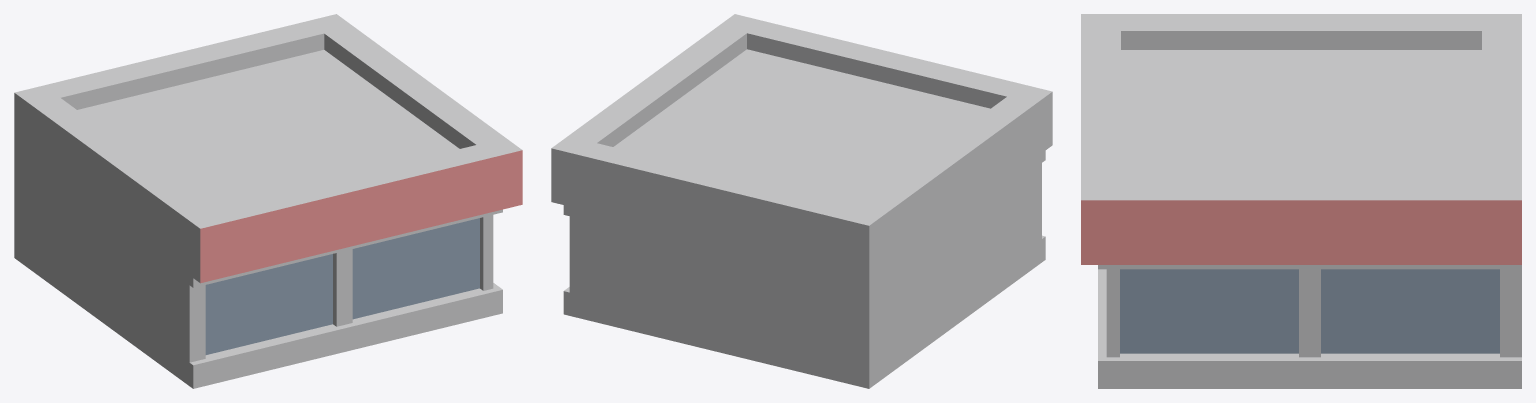
Rendered from pitsOfficeCorner.glb.
3 views of the same model, side by side, from view 1: azimuth 30°, elevation 25°; view 2: azimuth 150°, elevation 25°; view 3: azimuth 270°, elevation 25° (orthographic). The views are drawn at different scales.
Visible parts, largest first — view 1: pitsOfficeCorner; view 2: pitsOfficeCorner; view 3: pitsOfficeCorner.
Boxes of the visible parts, <box> form: pitsOfficeCorner: <box>14,14,522,388</box>; pitsOfficeCorner: <box>551,14,1052,388</box>; pitsOfficeCorner: <box>1081,14,1521,388</box>.
Bounding box in the file's own units: 1.04 × 0.51 × 1.04.
